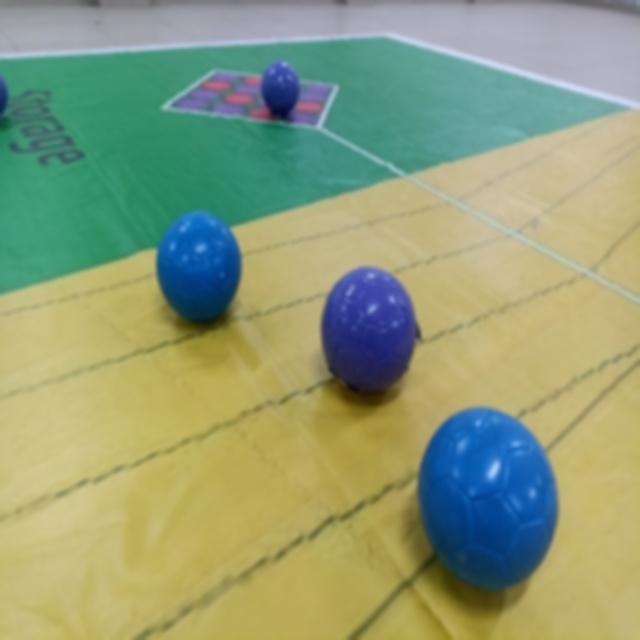blue_ball: (408, 402, 564, 596), (150, 211, 246, 318)
purple_ball: (324, 270, 426, 404), (257, 58, 308, 126), (0, 71, 14, 118)
